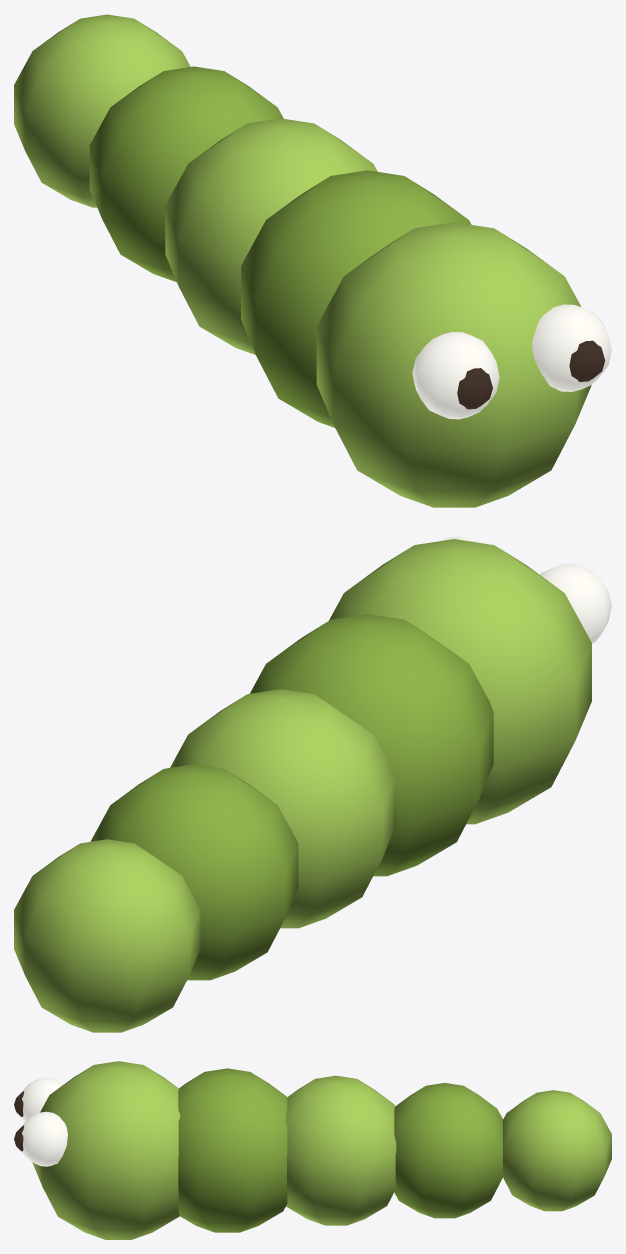
Rendered from gusano.glb.
3 views of the same model, one above another, from view 1: azimuth 30°, elevation 25°; view 2: azimuth 150°, elevation 25°; view 3: azimuth 270°, elevation 25° (orthographic). The views are drawn at different scales.
Visible parts, largest first — view 1: seg0, seg1, seg2, seg3, seg4, ojo0, ojo1, pupila1, pupila0; view 2: seg0, seg1, seg4, seg2, seg3, ojo0; view 3: seg0, seg1, seg2, seg3, seg4, ojo1, ojo0.
Part boxes in pixels (x1,y1,x2,y2): seg0: [316, 222, 591, 507]; seg1: [241, 170, 471, 427]; seg2: [165, 118, 377, 354]; seg3: [89, 66, 283, 282]; seg4: [14, 14, 190, 207]; ojo0: [412, 331, 499, 419]; ojo1: [532, 304, 611, 391]; pupila1: [569, 340, 605, 381]; pupila0: [457, 368, 492, 409]; seg0: [329, 539, 591, 824]; seg1: [250, 614, 493, 876]; seg4: [14, 839, 200, 1032]; seg2: [170, 689, 396, 928]; seg3: [90, 764, 298, 980]; ojo0: [540, 564, 611, 643]; seg0: [32, 1061, 180, 1239]; seg1: [178, 1068, 287, 1232]; seg2: [285, 1075, 396, 1225]; seg3: [394, 1083, 502, 1218]; seg4: [503, 1090, 611, 1211]; ojo1: [22, 1111, 67, 1166]; ojo0: [22, 1077, 63, 1121].
Bounding box in the file's own units: 0.1172 × 0.124 × 0.4126.
